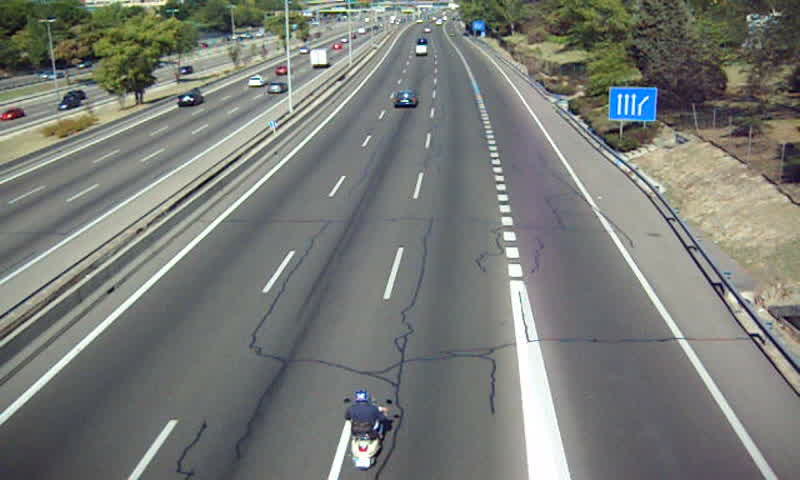car: (391, 90, 419, 111)
motorcycle: (342, 390, 393, 470)
